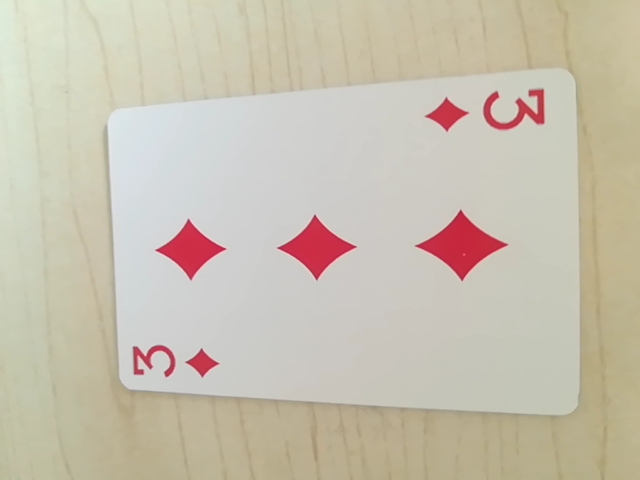fk 3: (424, 83, 552, 140), (127, 334, 228, 388)
